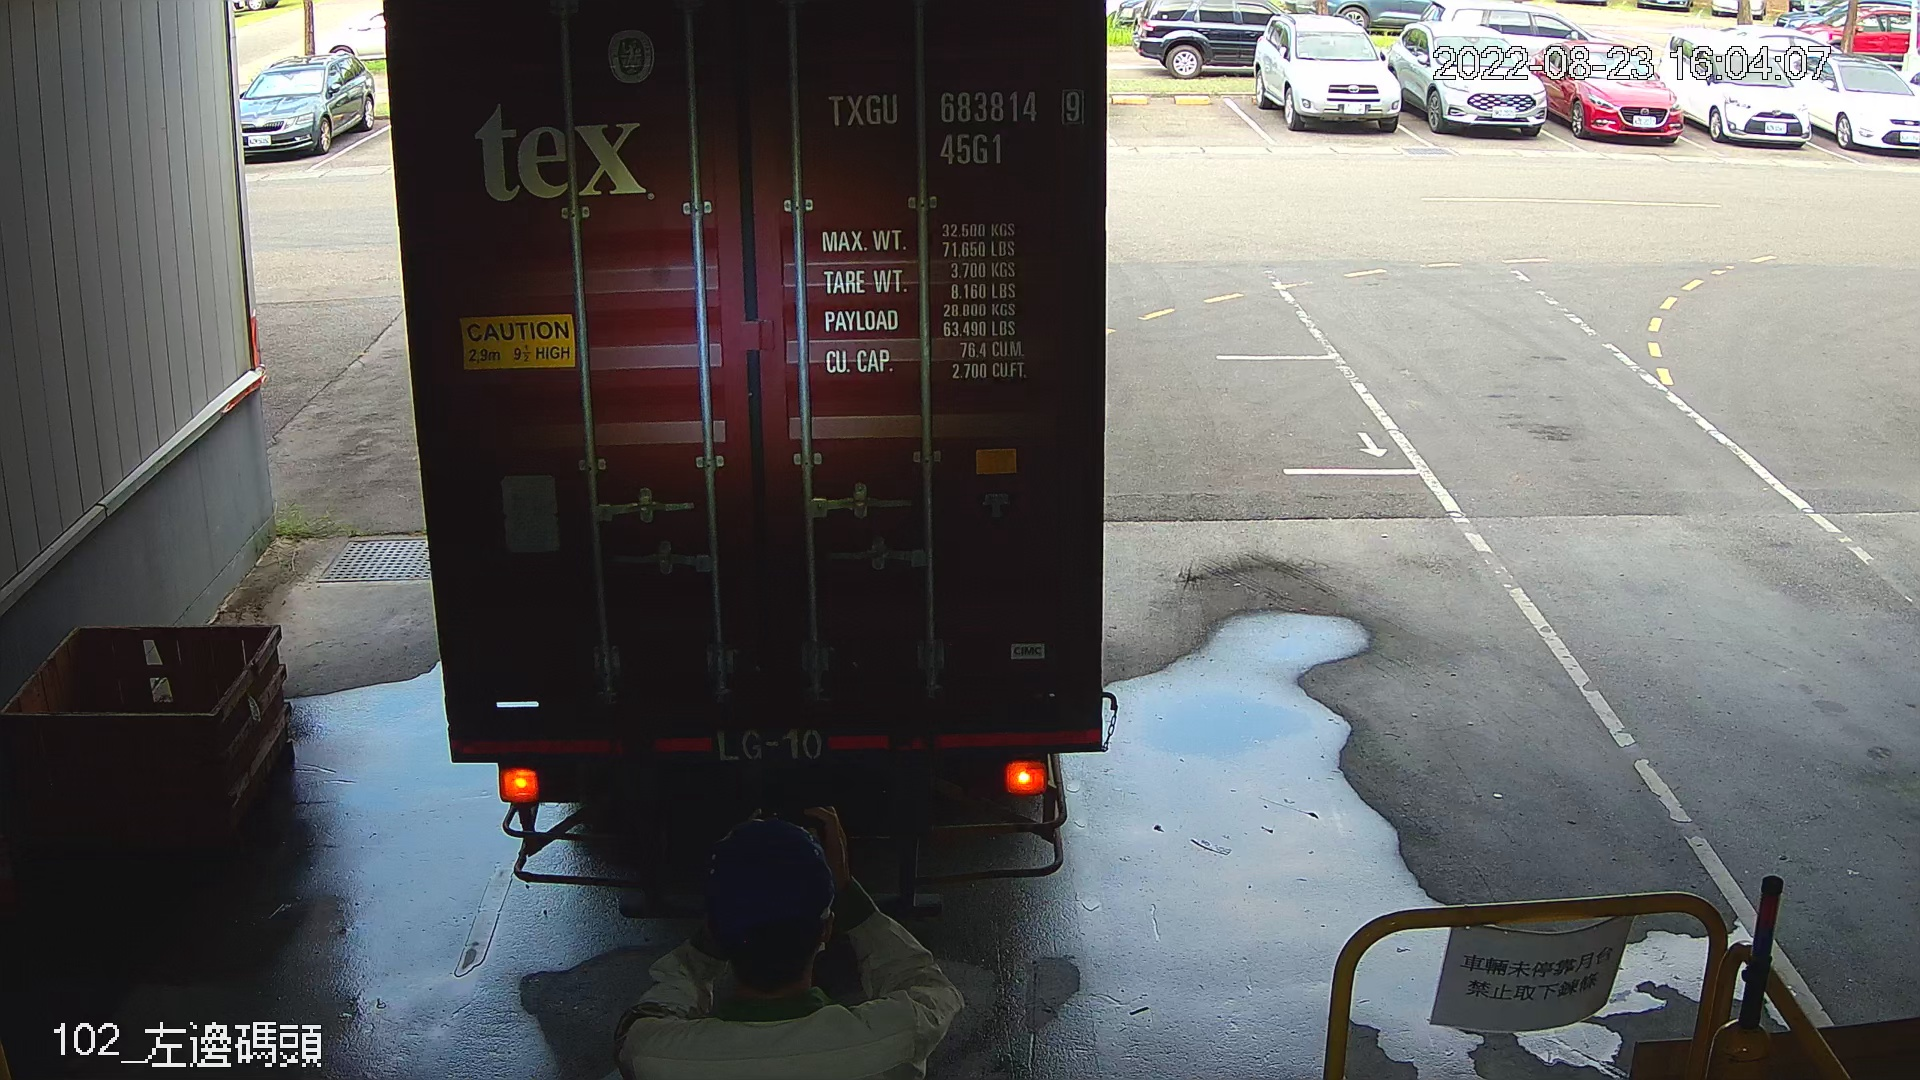container: (818, 74, 1092, 179)
